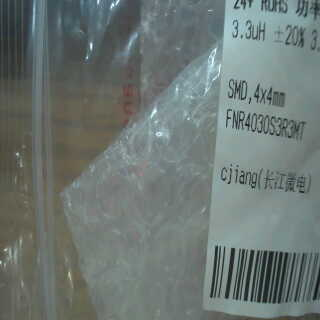3.3uH: (226, 12, 268, 46)
